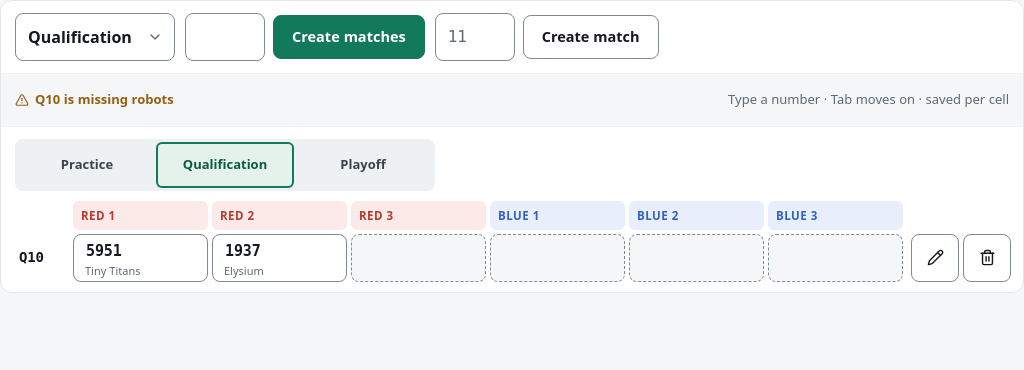
MatchesPanel › a refused line-up save says why and re-reads that match from the server
The image size is (1024, 370).
In the 3rd dropdown named "Q10 Red 3": (418, 258) [351,234,486,282], type "6230"
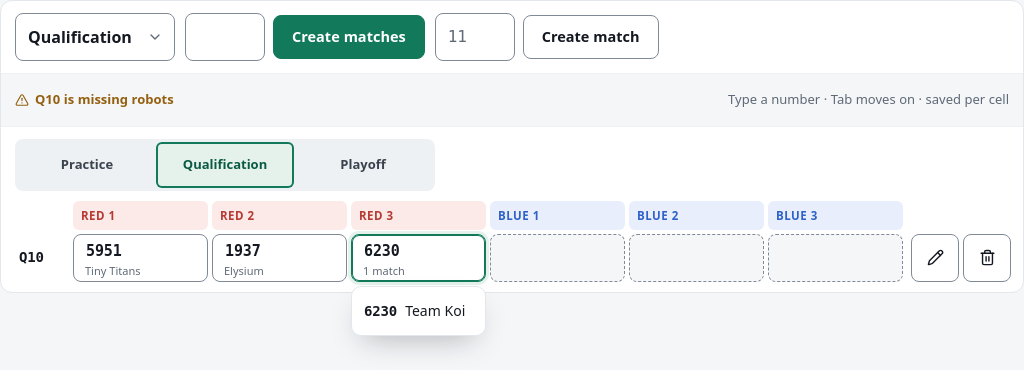
Press Tab
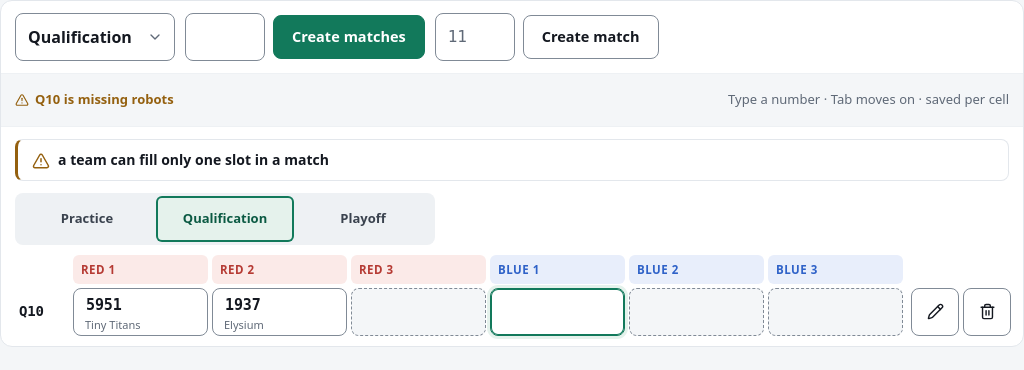
Now the message reads "a team can fill only one slot in a match", box [58,150,329,168]
Now the 3rd dropdown named "Q10 Red 3" is empty, box [351,288,486,336]
